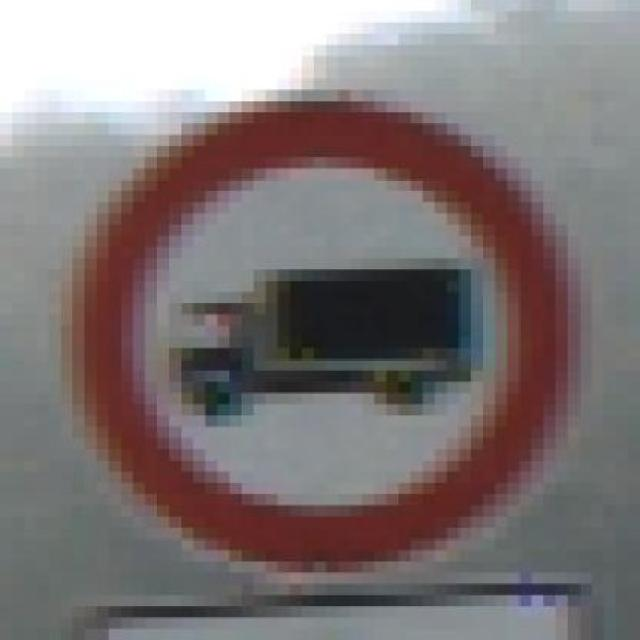Truck traffic is prohibited: (36, 56, 592, 584)
